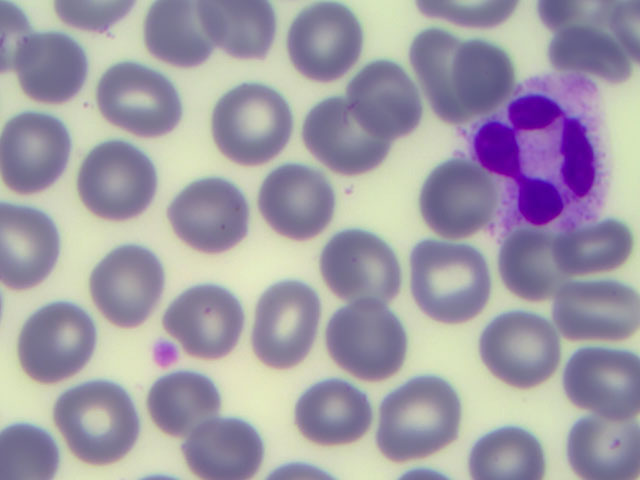RBC: (413, 30, 476, 130), (105, 63, 184, 141), (414, 240, 486, 322), (385, 383, 464, 456), (309, 102, 389, 174), (332, 294, 398, 375), (482, 317, 557, 388), (84, 148, 158, 218), (19, 33, 89, 107), (262, 282, 316, 375), (219, 86, 286, 160), (183, 416, 260, 480), (557, 418, 640, 477), (173, 182, 249, 246), (322, 231, 393, 299), (424, 166, 489, 240), (295, 382, 371, 445), (65, 384, 134, 453), (562, 282, 640, 343), (173, 289, 248, 350), (94, 253, 161, 321), (291, 10, 358, 78), (544, 18, 632, 69), (570, 351, 640, 415), (150, 1, 227, 59), (267, 164, 327, 237), (6, 121, 69, 189), (153, 375, 221, 437), (508, 232, 569, 301), (197, 1, 272, 57), (4, 206, 56, 286), (349, 61, 408, 131), (24, 305, 89, 367), (470, 428, 539, 480), (457, 42, 508, 107), (559, 232, 640, 272), (1, 424, 55, 480), (403, 1, 510, 28), (58, 1, 124, 34), (1, 3, 31, 63)
WBC: (497, 88, 611, 227)
